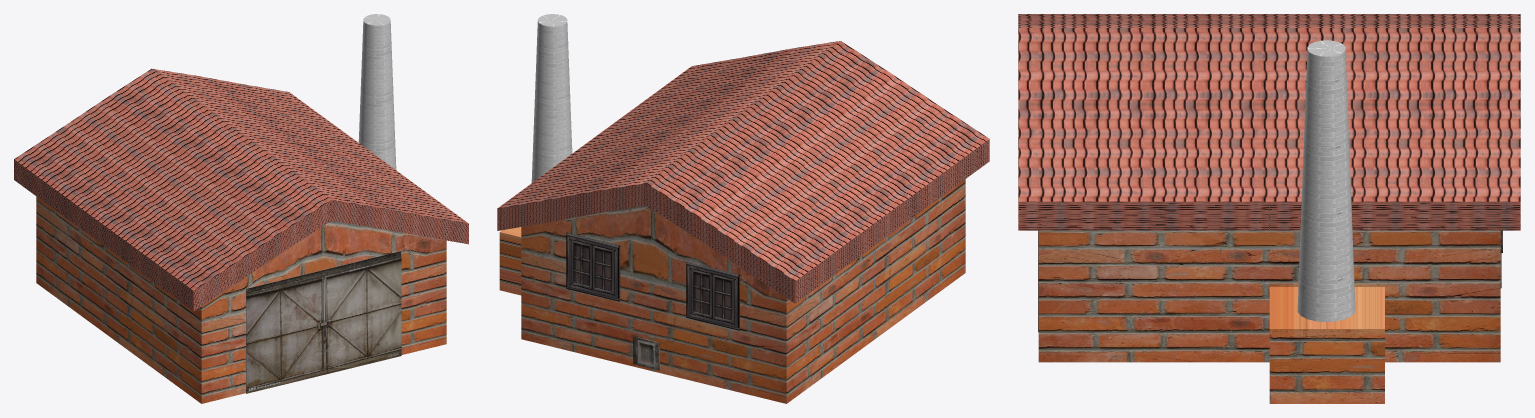
File: factory.gltf
The picture shows the model from 3 angles, left to right: view 1: azimuth 30°, elevation 25°; view 2: azimuth 150°, elevation 25°; view 3: azimuth 270°, elevation 25°; orthographic projection. The views are drawn at different scales.
Parts seen in each view (by area): view 1: Box02, Box01, Box03, Cylinder01; view 2: Box02, Box01, Cylinder01, Box05, Box04, Box06; view 3: Box02, Box01, Cylinder01.
Boxes of the visible parts, box(x1,y1,x2,y2) form: Box02: box(14, 68, 468, 311); Box01: box(36, 196, 446, 403); Box03: box(246, 251, 401, 393); Cylinder01: box(358, 14, 396, 169); Box02: box(497, 41, 989, 303); Box01: box(499, 179, 965, 403); Cylinder01: box(531, 14, 572, 182); Box05: box(566, 232, 620, 301); Box04: box(686, 262, 739, 330); Box06: box(633, 336, 659, 370); Box02: box(1018, 14, 1520, 230); Box01: box(1038, 230, 1500, 403); Cylinder01: box(1297, 40, 1355, 322).
Size of the model in its own units: 2 by 1.43 by 1.94.
6 materials, 6 textured.
